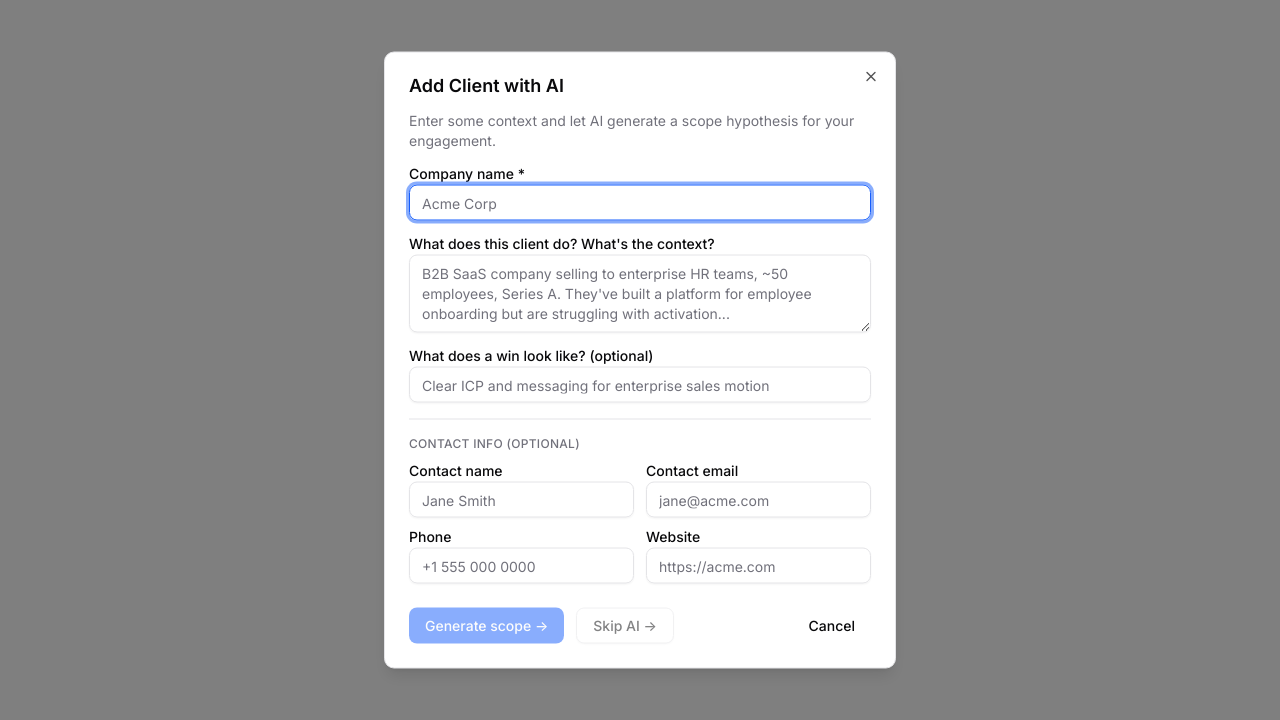
ClientIntakeWizard — Step 2 error handling › shows inline error and "Continue without AI draft" button on API error
The image size is (1280, 720).
Type "Acme" into the field labelled "Company name *" at (640, 202), box [409,184,871,220]
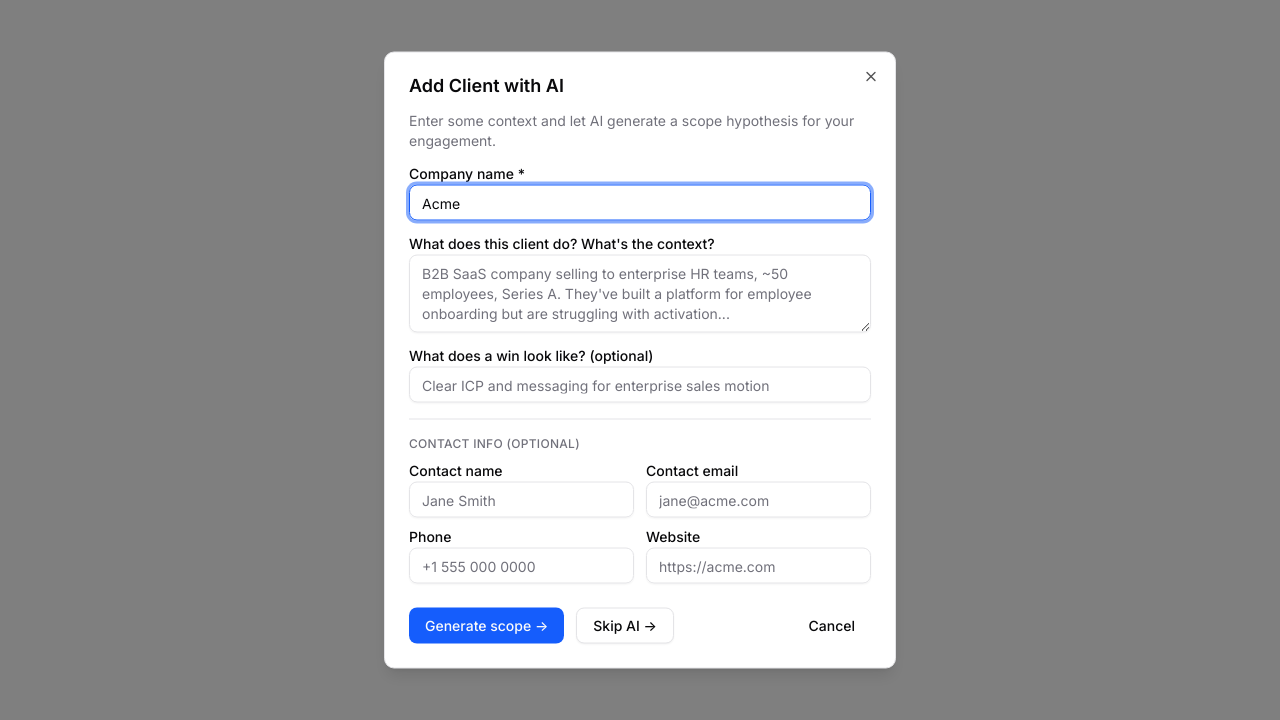
Click the button "Generate scope →" at (487, 626), box [409,608,564,644]
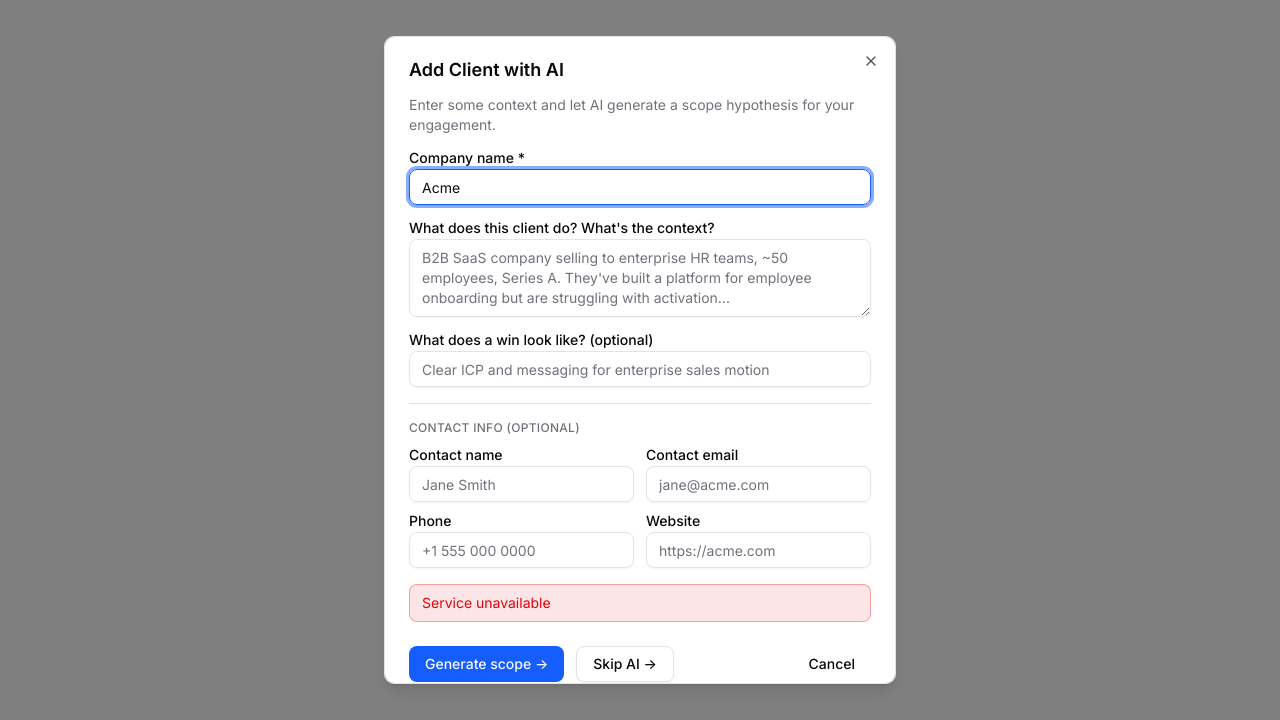
Check: the button "Skip AI →" is shown, box [576,646,674,682]
Check: the text "Service unavailable" is shown, box [409,584,871,622]
